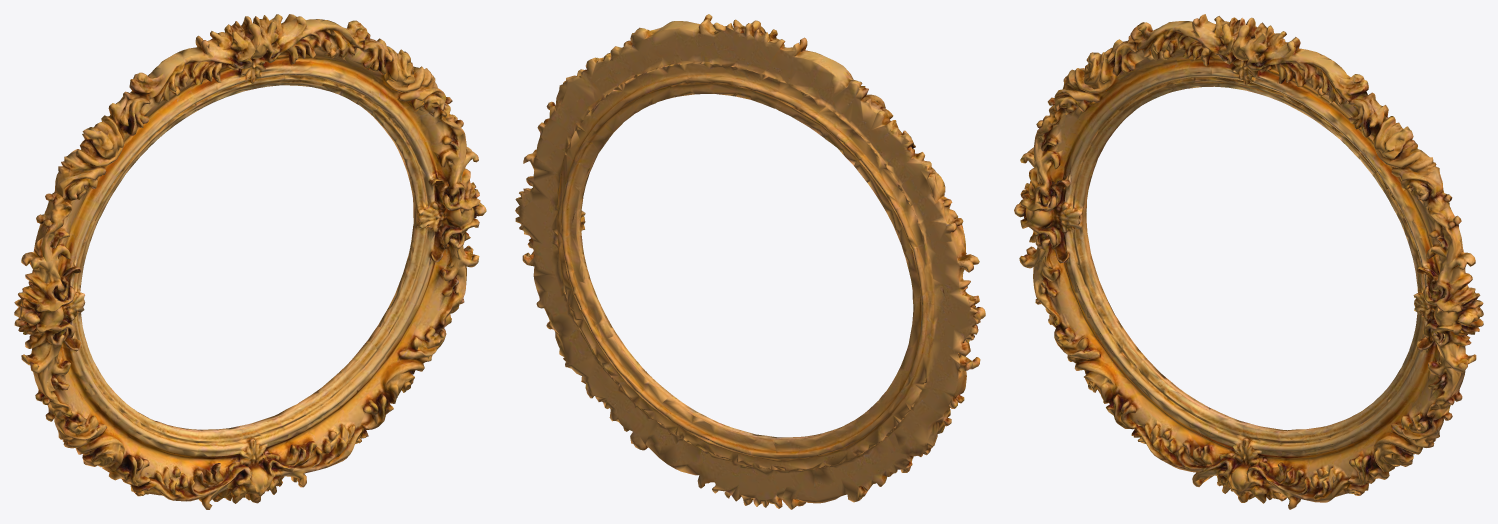
3 renders of one model, left to right at view 1: azimuth 30°, elevation 25°; view 2: azimuth 150°, elevation 25°; view 3: azimuth 330°, elevation 25°, orthographic.
Bounding box in the file's own units: 1.9 × 1.89 × 0.1423.
1 material, 1 textured.
